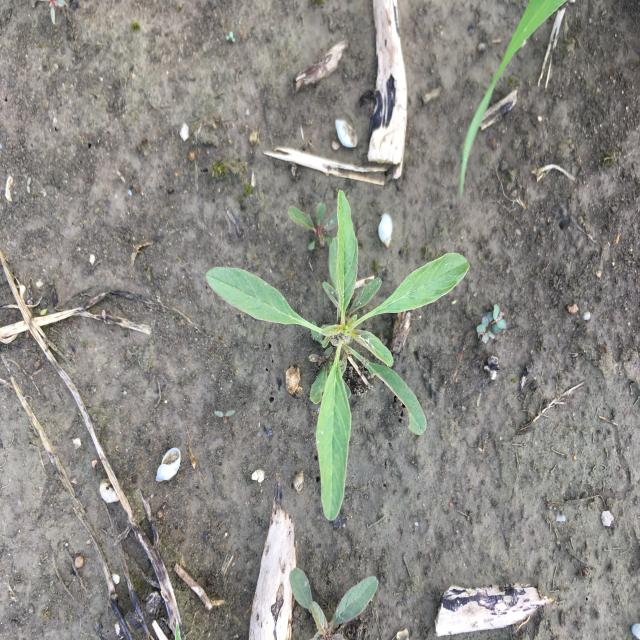SpottedSpurge: (476, 301, 509, 345)
Waterhemp: (204, 189, 471, 523), (289, 567, 381, 637)
